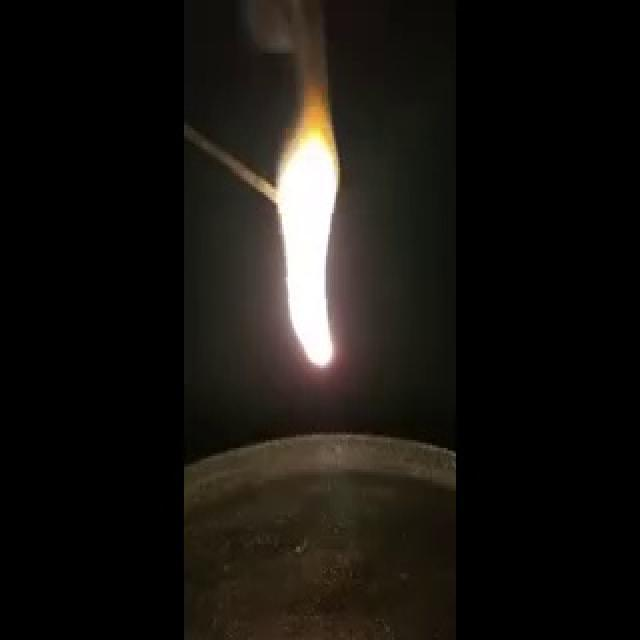fire: (264, 64, 342, 382)
